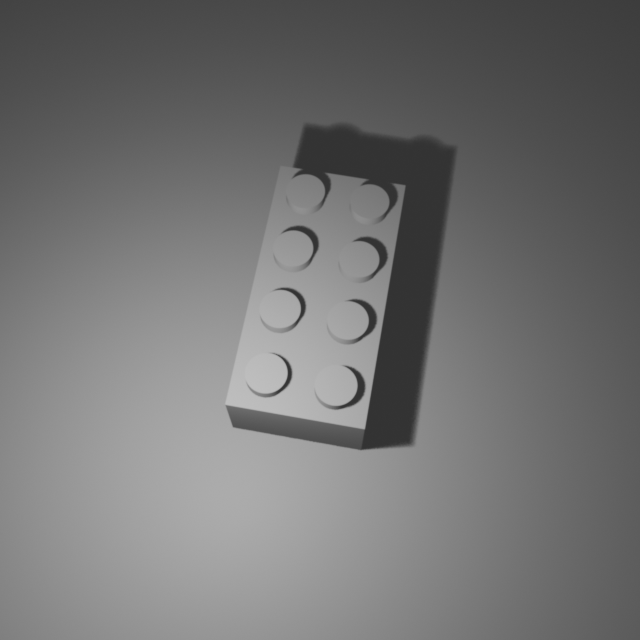lego_2x4: (224, 159, 407, 450)
